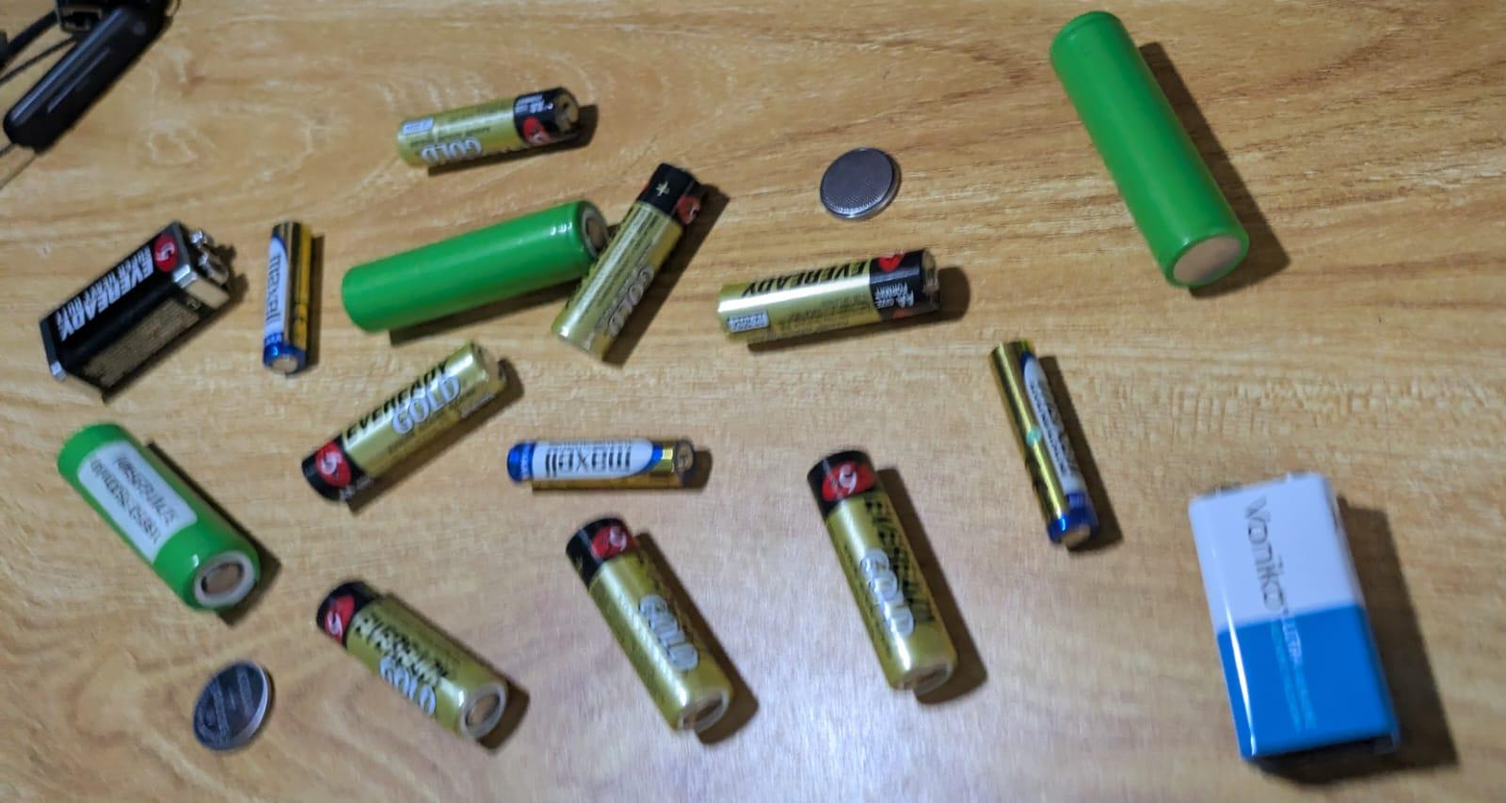9V: (1187, 467, 1406, 779), (40, 220, 233, 398)
AA: (804, 449, 960, 699), (563, 514, 736, 735), (298, 340, 509, 504), (550, 158, 712, 368), (313, 578, 510, 745), (717, 248, 941, 348), (391, 86, 582, 171)
AAA: (990, 338, 1098, 548), (503, 436, 700, 491), (262, 219, 314, 376)
COIN: (190, 660, 273, 753), (816, 147, 900, 222)
